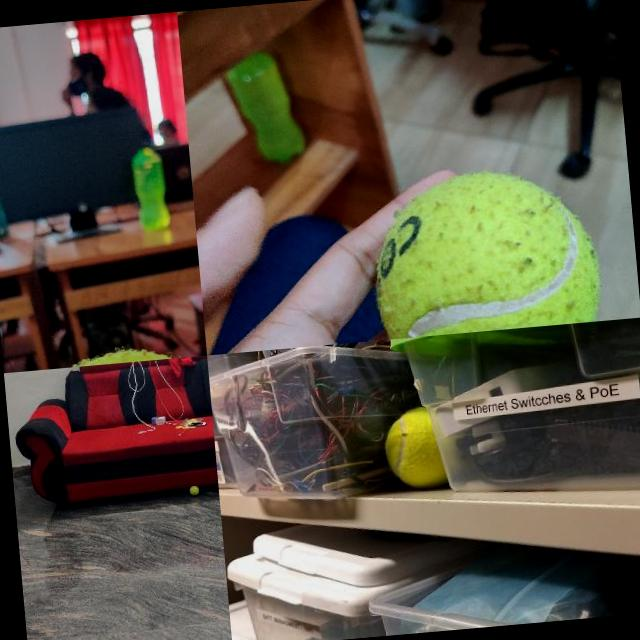tennis-ball: (365, 161, 604, 339), (380, 406, 431, 492), (188, 484, 199, 495)
